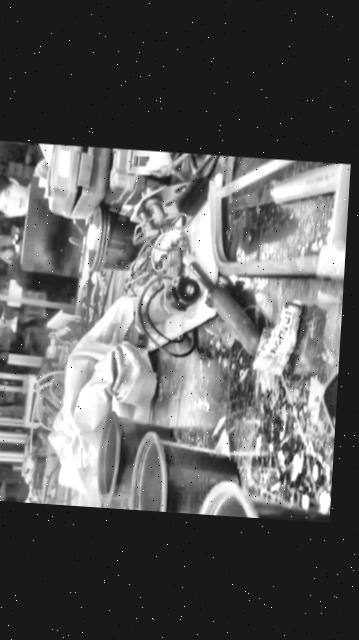pot: (130, 432, 238, 515), (97, 412, 173, 503), (199, 482, 330, 523), (91, 201, 140, 278)
